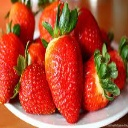strawberry: (43, 22, 84, 122), (18, 62, 58, 116), (84, 49, 116, 110), (0, 30, 23, 107)
